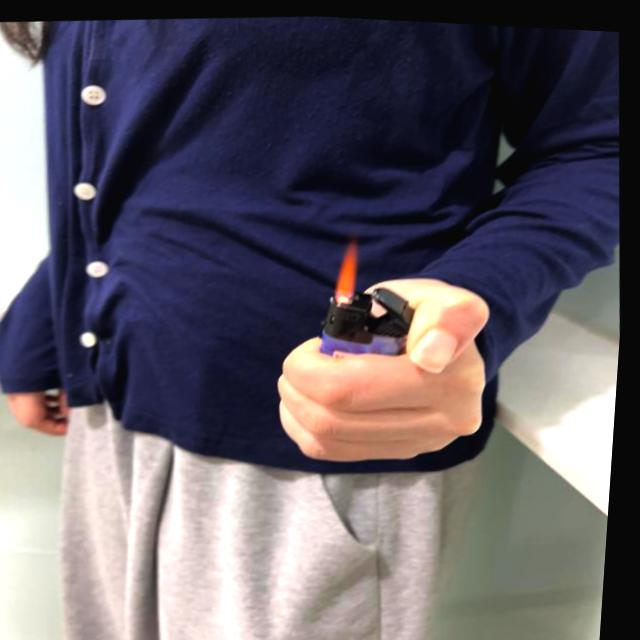Fire: (333, 228, 372, 303)
